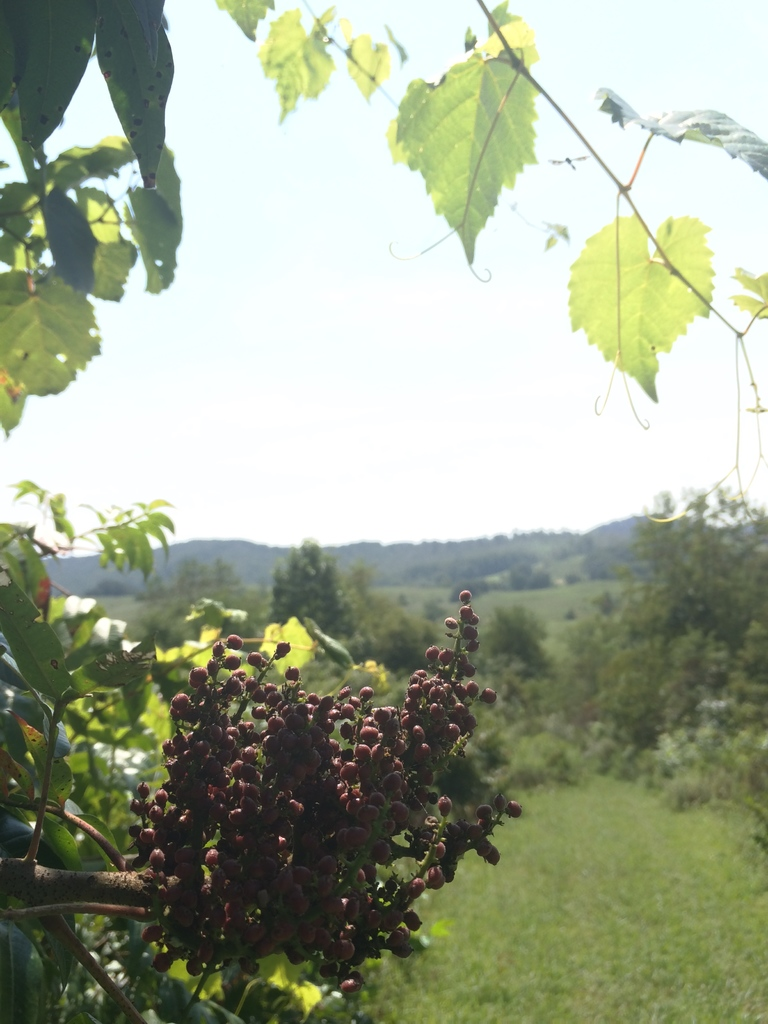Tree: (0, 0, 764, 1024)
